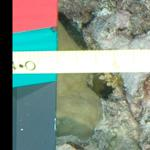alive: (16, 23, 147, 148)
